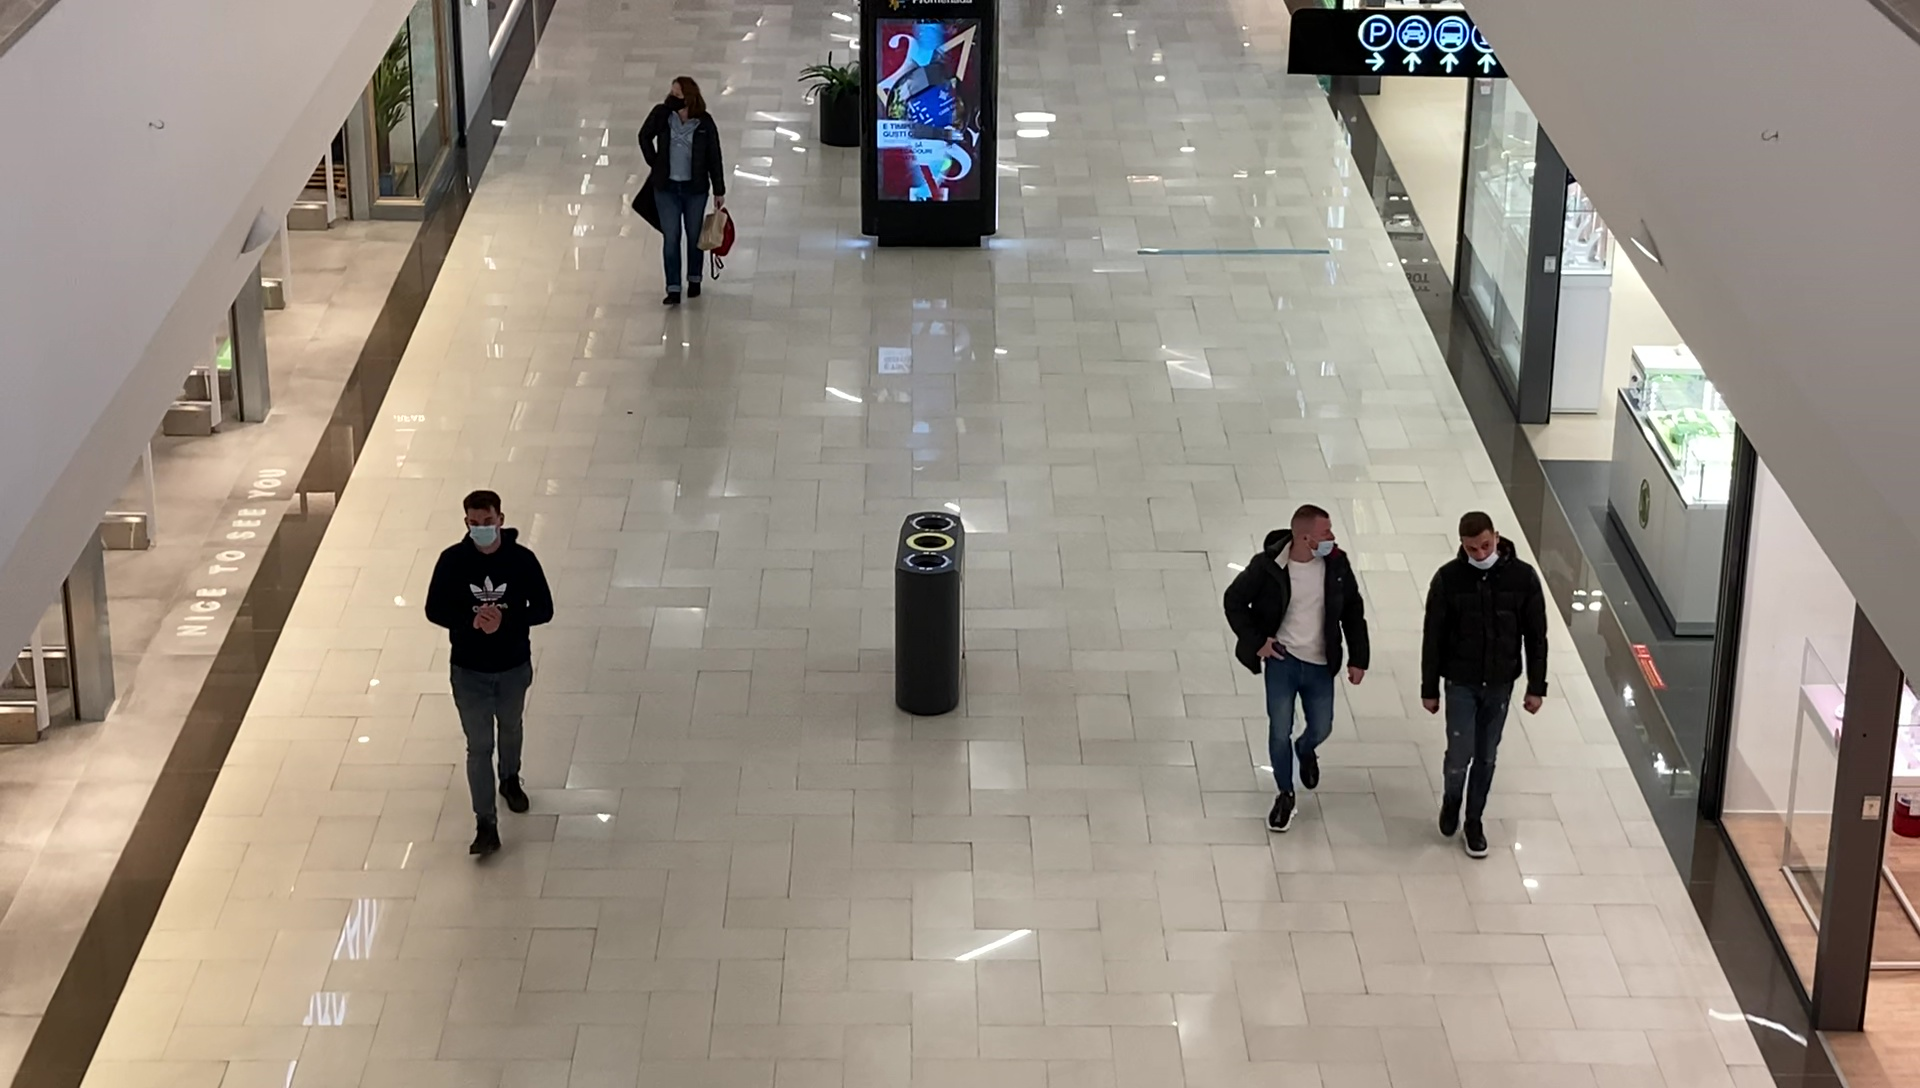person: (1223, 503, 1373, 836), (424, 490, 555, 859), (1418, 511, 1550, 861), (637, 77, 728, 305)
